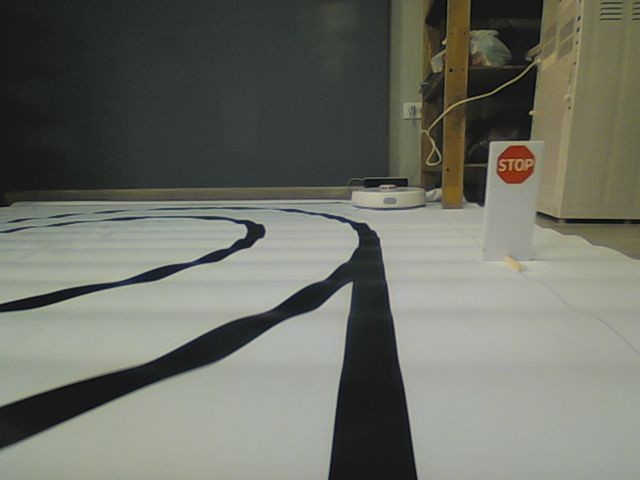Stop: (494, 145, 536, 187)
